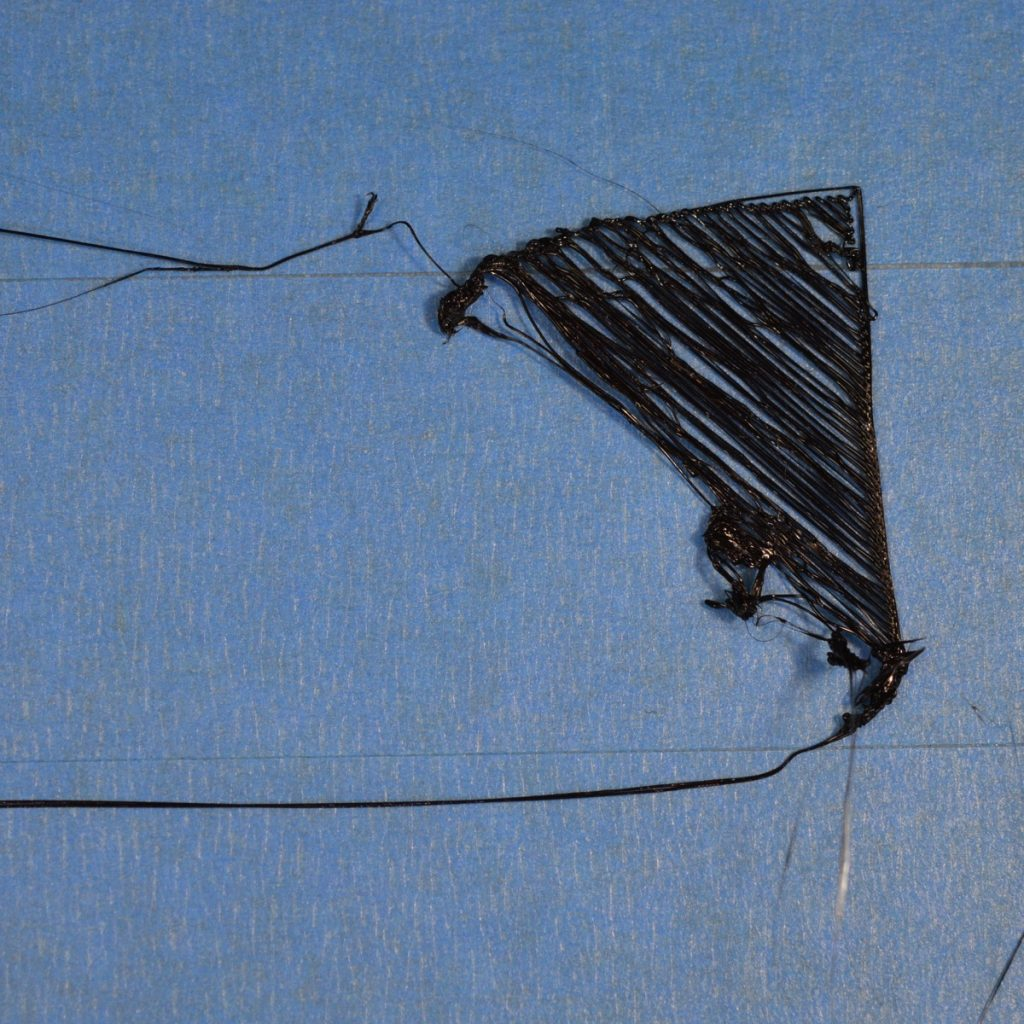fail: (427, 166, 940, 702), (1, 709, 850, 827), (1, 187, 460, 368)
